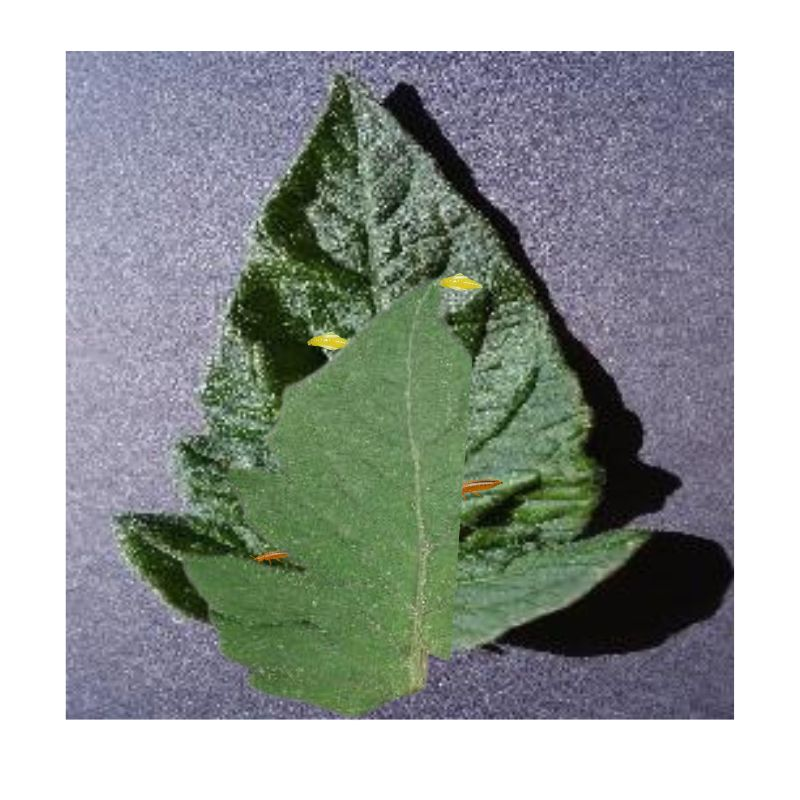thrips: (306, 331, 353, 353), (462, 475, 504, 498), (439, 271, 484, 292), (247, 547, 292, 565)
